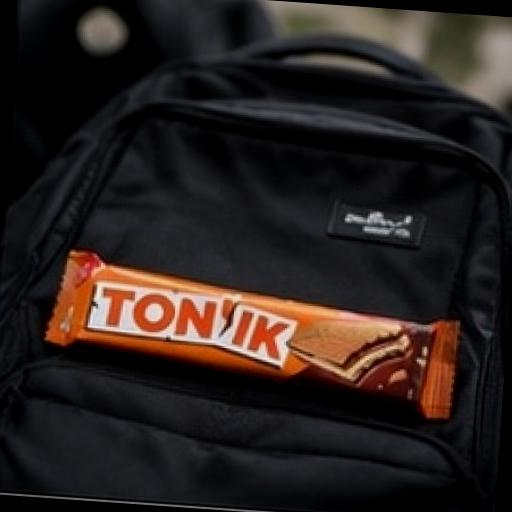tonik: (28, 174, 491, 456)
